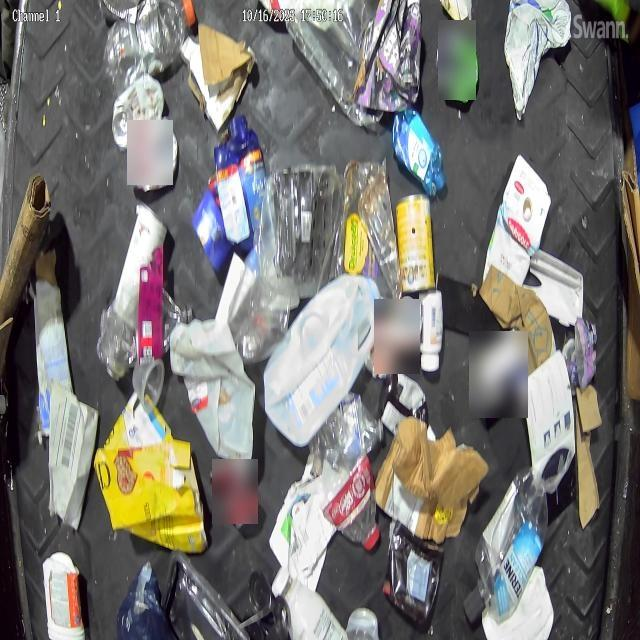milk_jug: (266, 276, 382, 441), (174, 317, 253, 463)
non_white_jug: (212, 115, 265, 258)
plastic_bottle: (102, 0, 195, 80)
